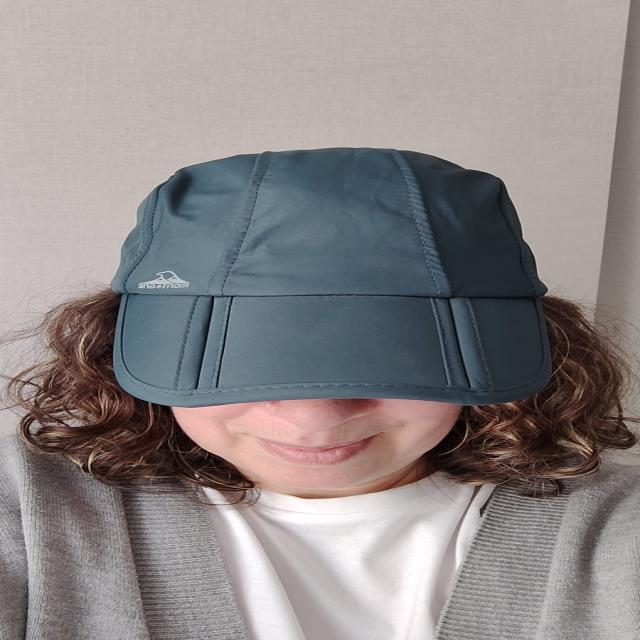Gorra: (92, 139, 590, 418)
